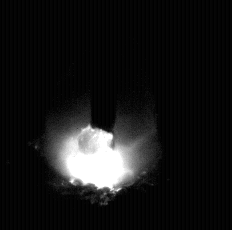arame: (91, 0, 116, 133)
poca: (43, 0, 158, 230)
